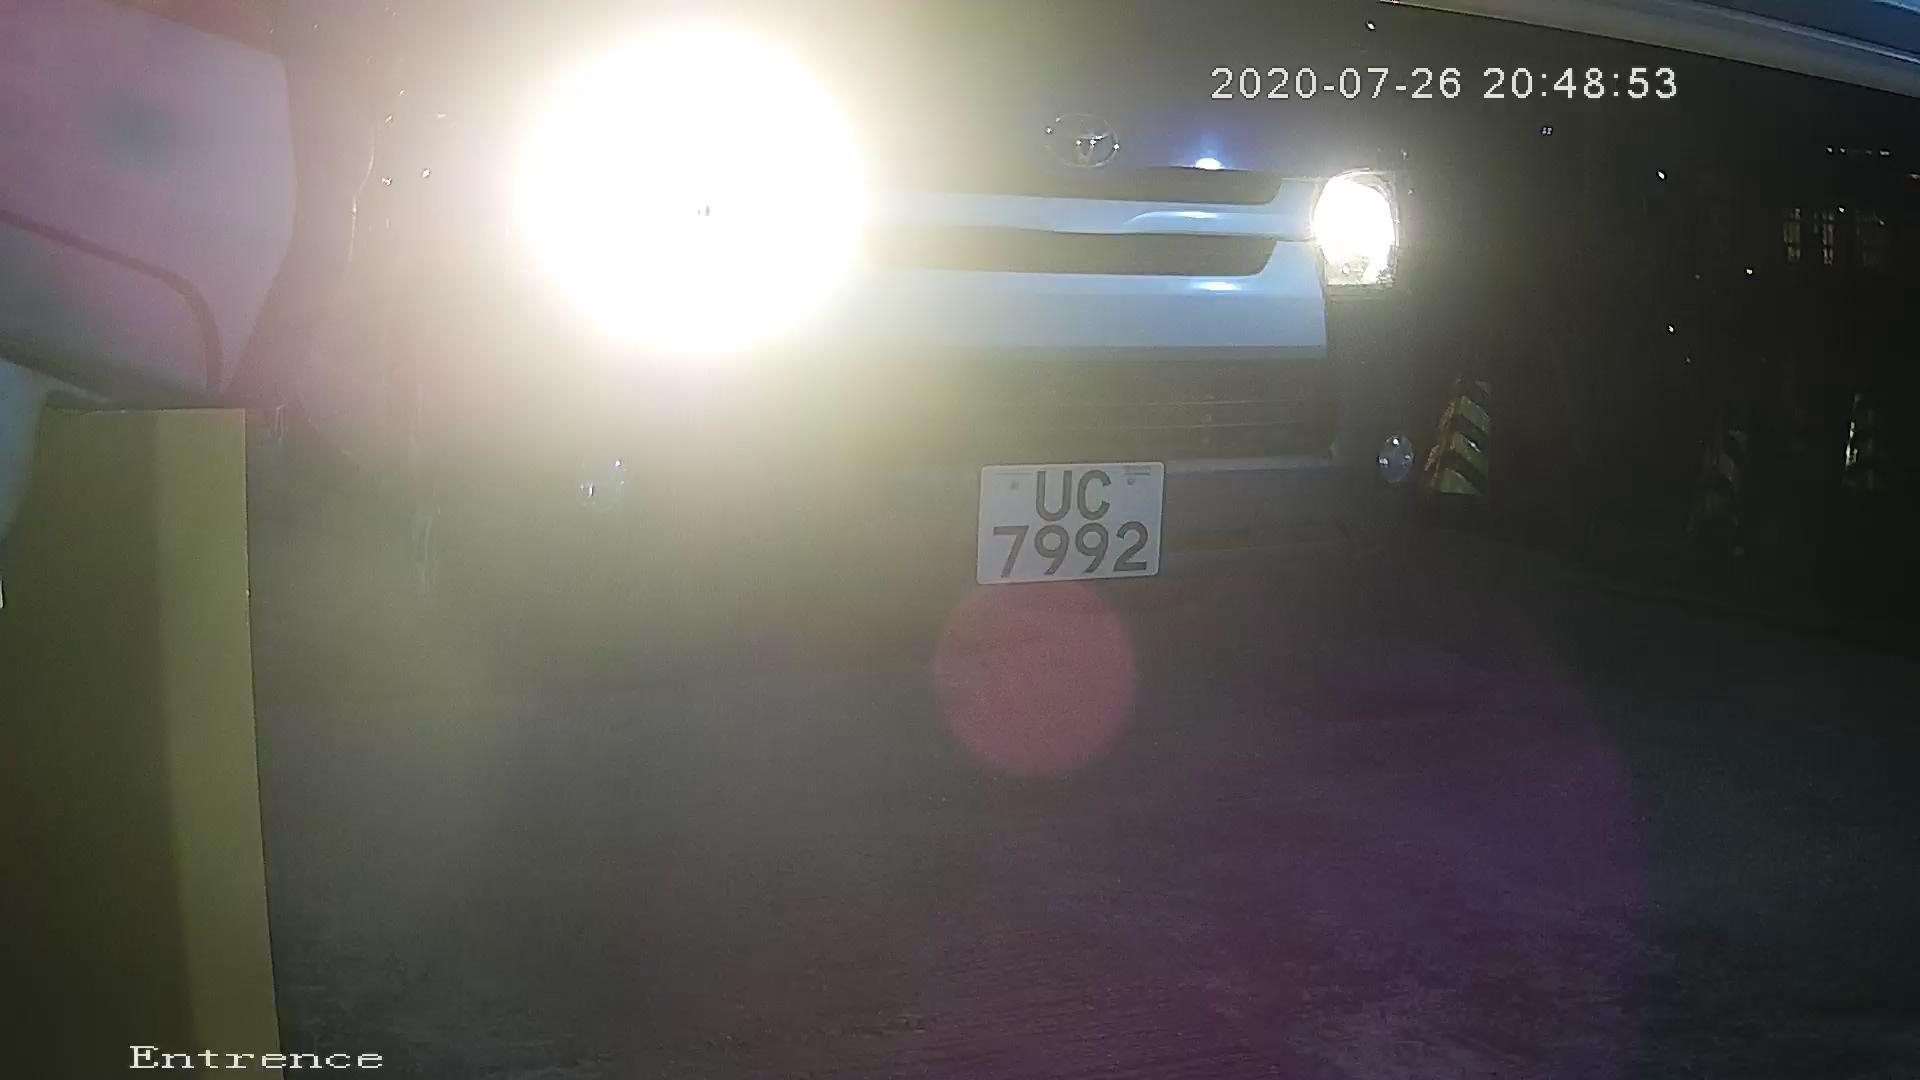Car: (69, 49, 1629, 820)
License Plate: (943, 425, 1201, 613)
